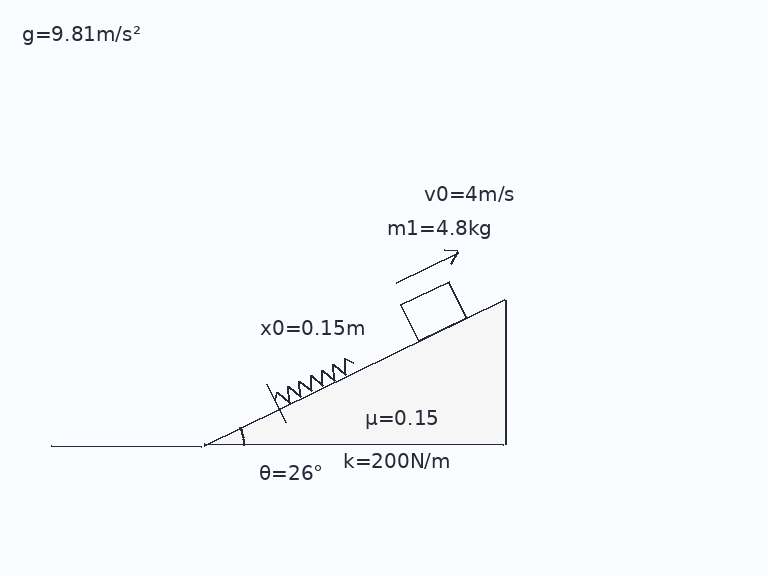block: (399, 280, 468, 343)
ramp: (202, 297, 505, 447)
spring: (273, 357, 355, 403)
